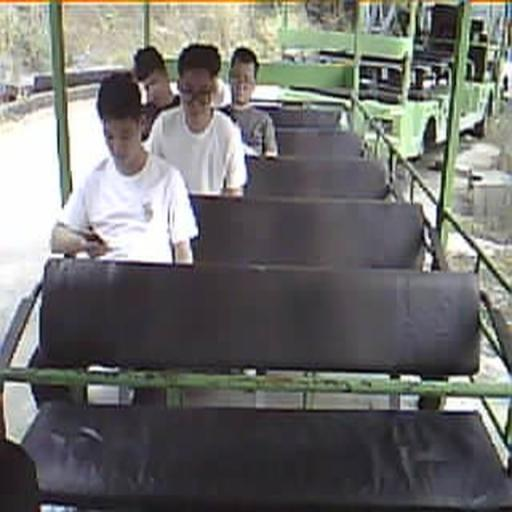persona: (50, 70, 200, 266), (142, 42, 248, 197), (217, 46, 279, 160), (132, 44, 180, 138), (212, 51, 232, 107)
